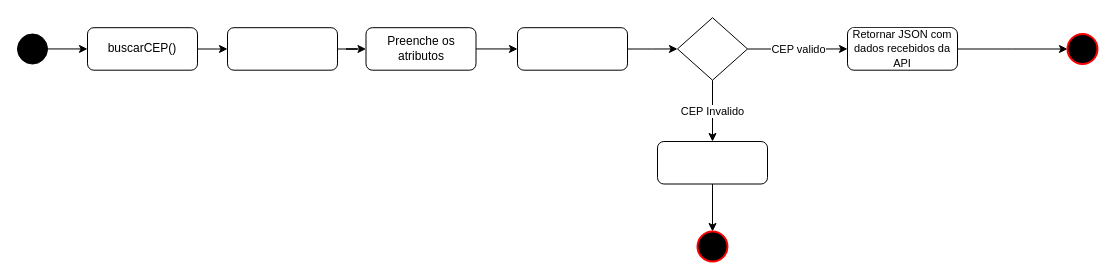
Some shapes in this 1116 by 280 pixel diagram are drawn without their labels. Each missing label, with the centre of its shape:
Enviar uma requisição para API validadora: point (572, 48)
Instanciar Objeto: point (282, 48)
Retornar JSON com Mensagem de erro: point (712, 162)
